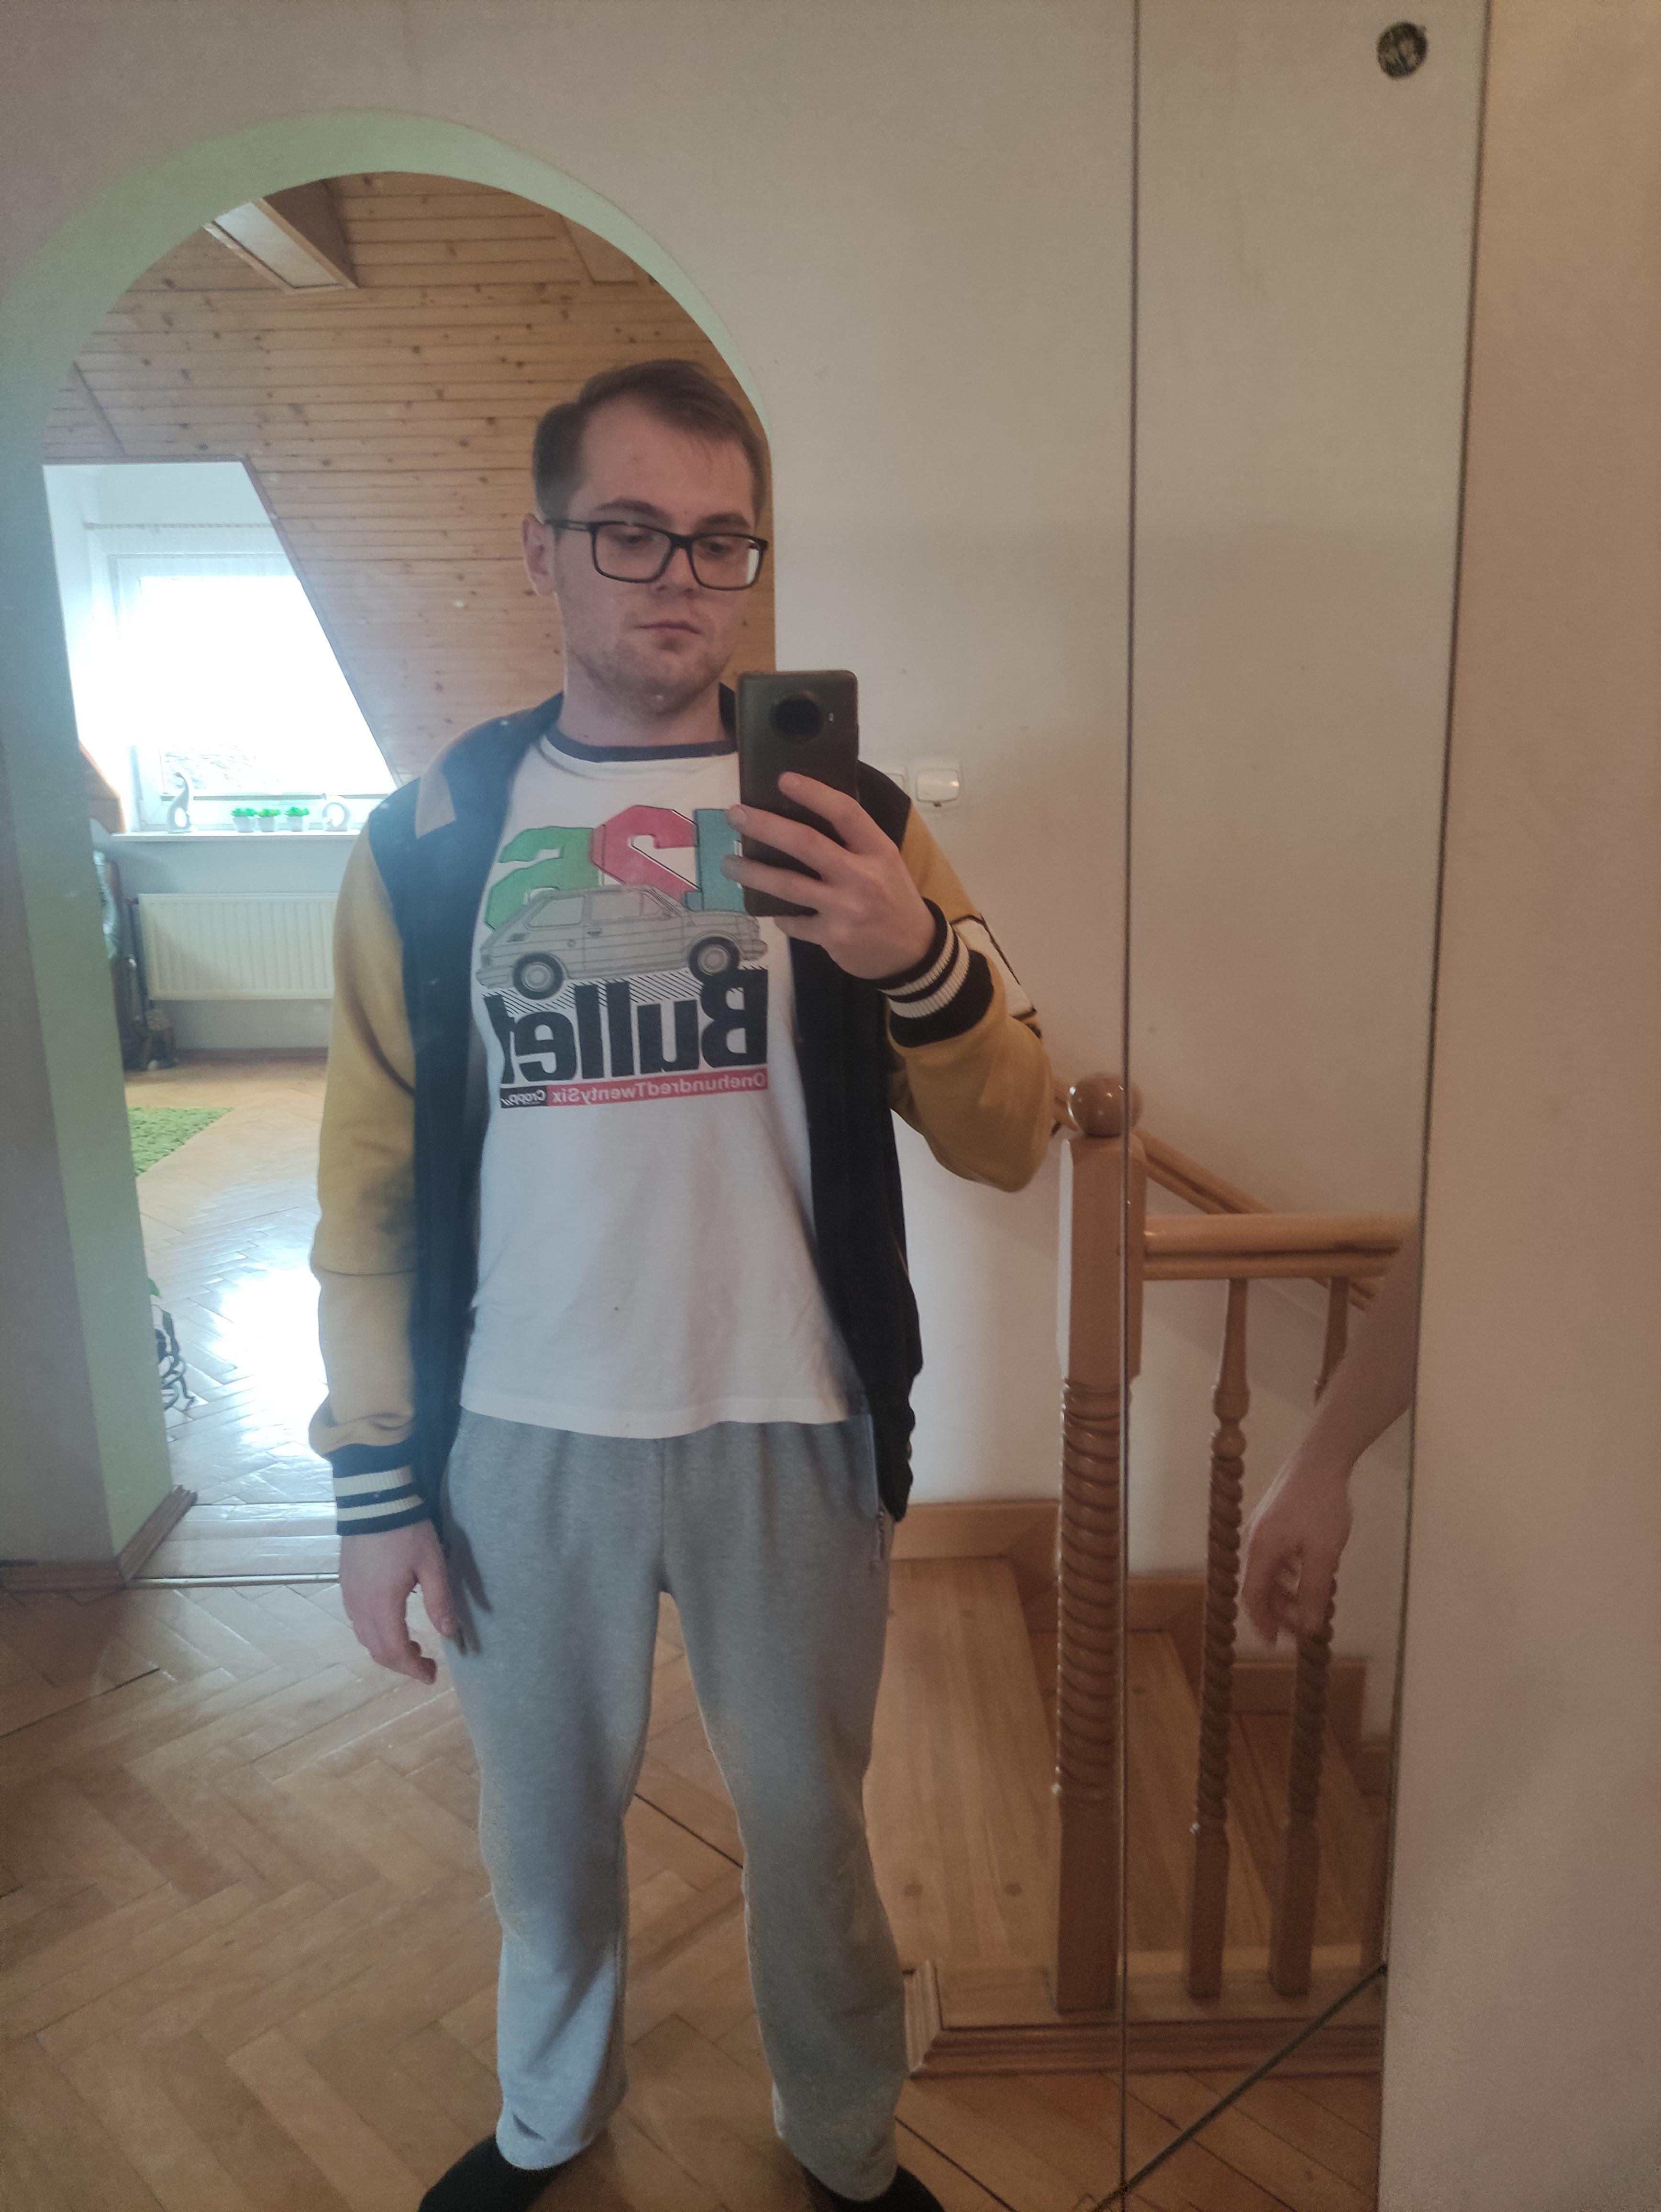Tshirt: (349, 720, 919, 1436)
pants: (433, 1403, 916, 2196)
sweater: (309, 668, 1052, 1554)
